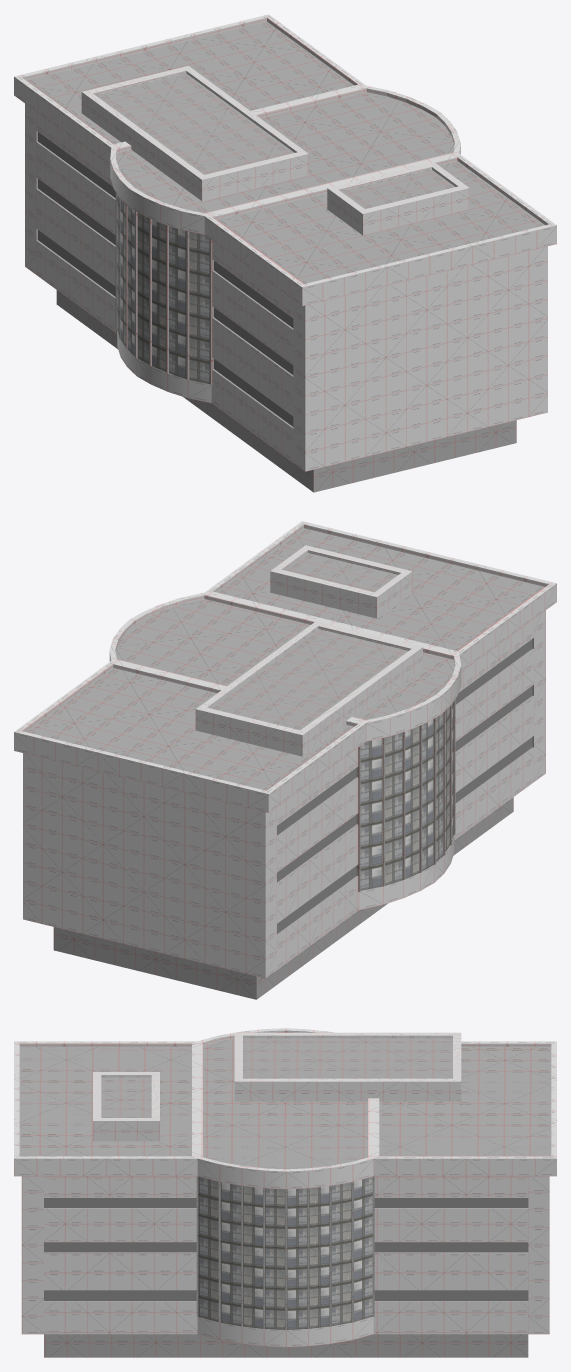
File: tbuild_b.FBX
The picture shows the model from 3 angles, top to bottom: view 1: azimuth 30°, elevation 25°; view 2: azimuth 150°, elevation 25°; view 3: azimuth 270°, elevation 25°; orthographic projection. The views are drawn at different scales.
Visible parts, largest first — view 1: terminal_01_с; view 2: terminal_01_с; view 3: terminal_01_с.
Part boxes in pixels (x1,y1,x2,y2): terminal_01_с: (14,14,556,492); terminal_01_с: (14,521,556,999); terminal_01_с: (14,1028,556,1357).
Size of the model in its own units: 77.09 by 56.95 by 123.
6 materials, 5 textured.
